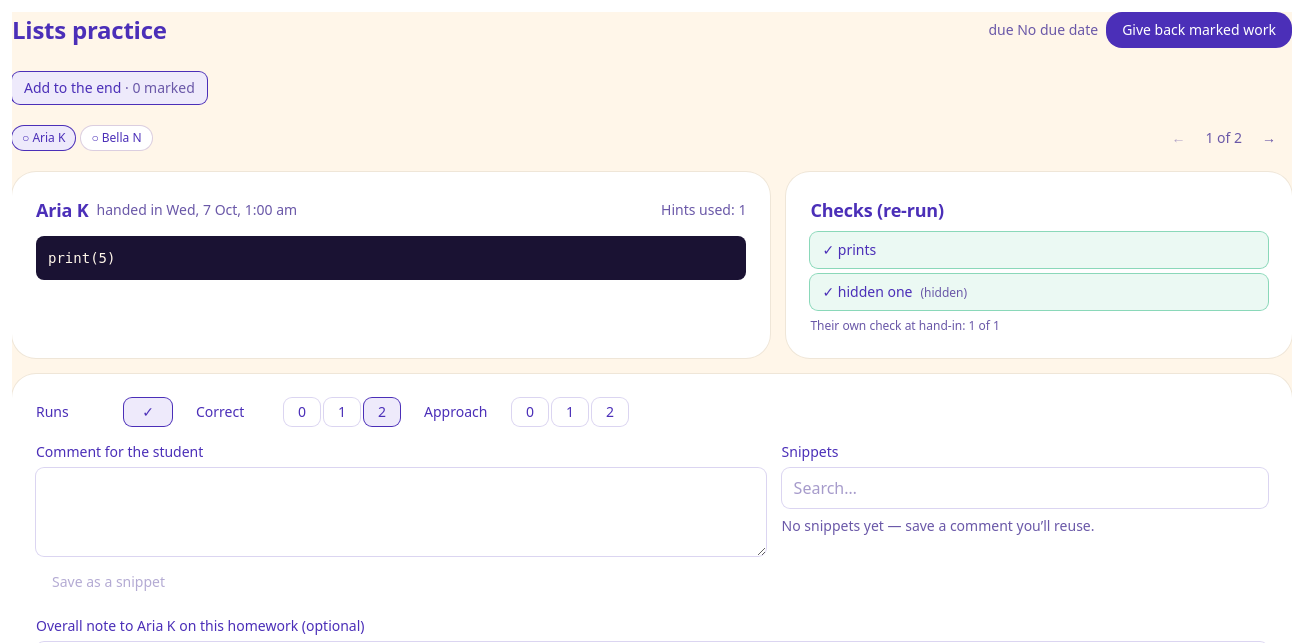
marking pre-fills Runs and Correct from the re-run and saves when moving on
expect the heading "Aria K" is shown: met, box [36,196,88,224]
expect the element named "Correct" is shown: met, box [284,398,400,426]
Click the radio button labelled "1" in the row of "Approach": point(570, 412) [552,398,588,426]
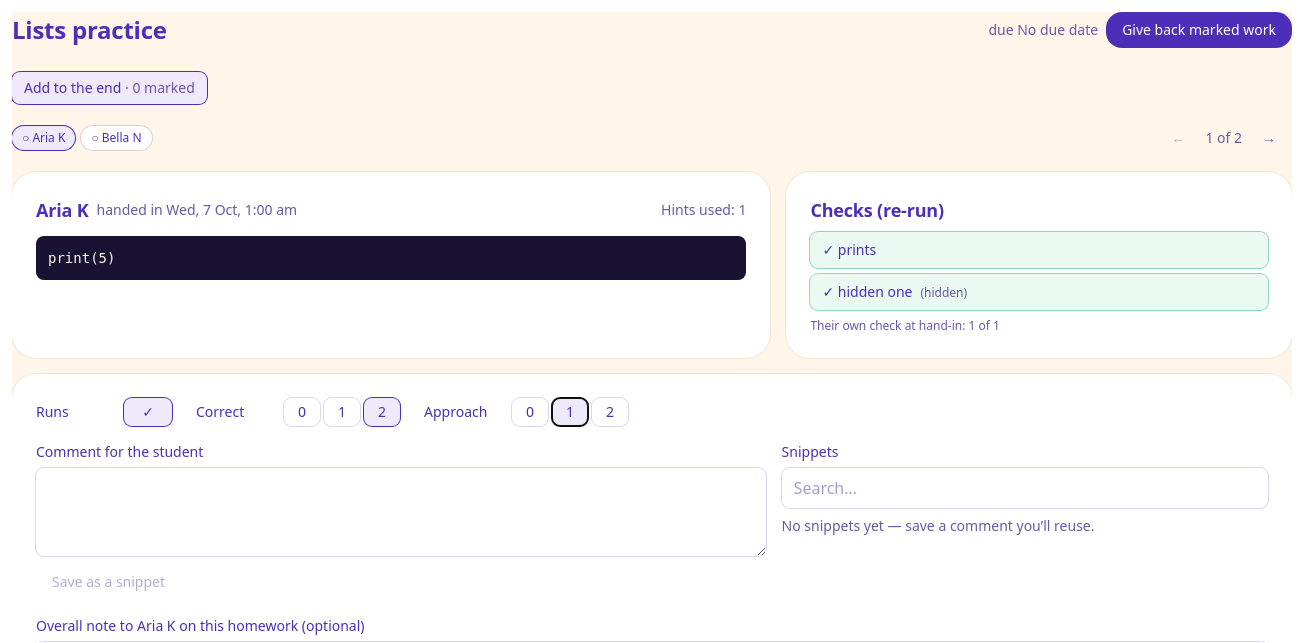
In the text box labelled "Comment for the student": point(401, 512) [36,468,766,556], type "Nice"
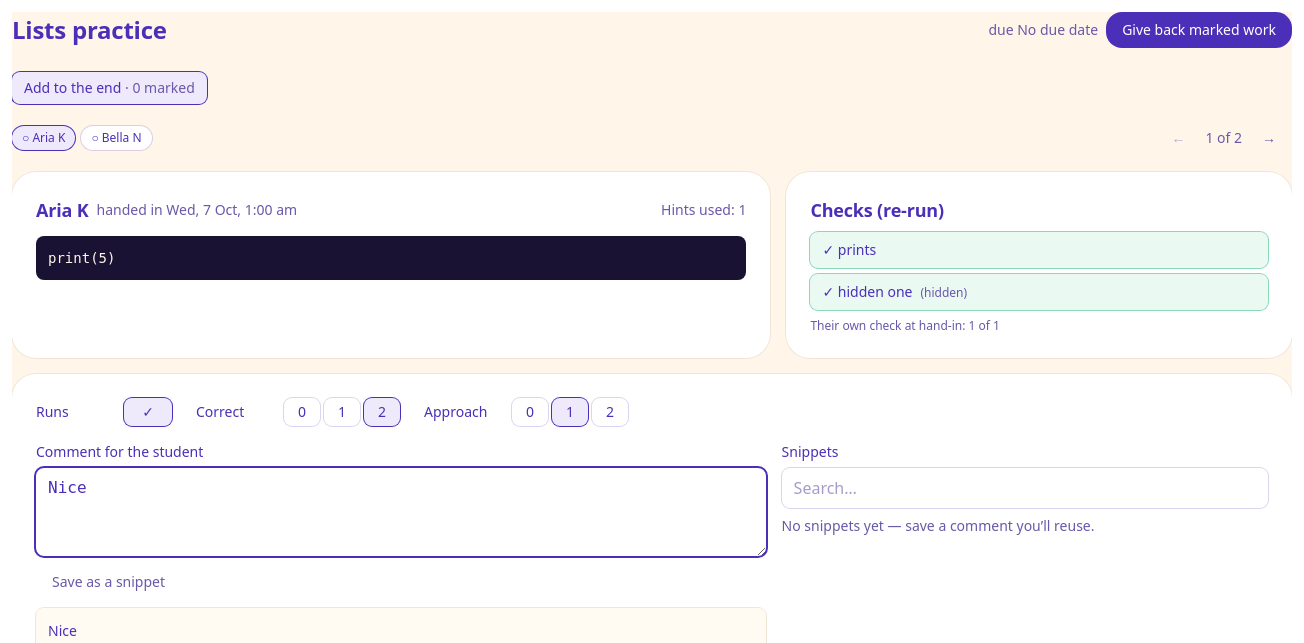
Press Escape
Click the button named "Next child": point(1269, 138) [1246,120,1292,156]
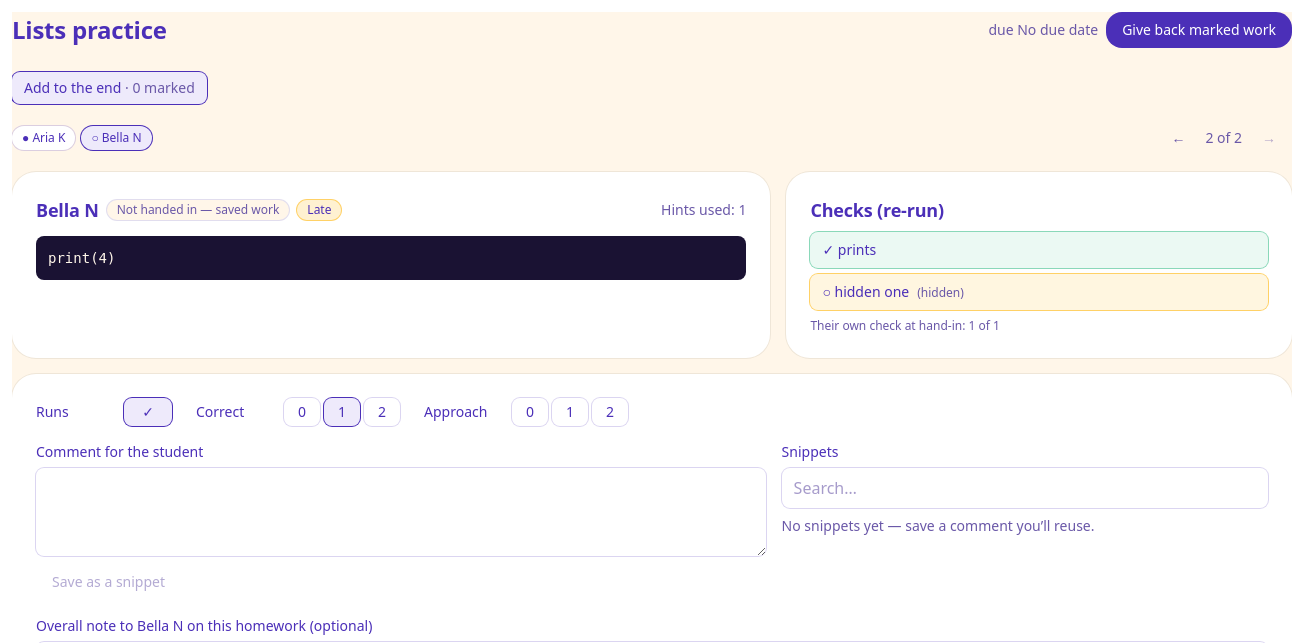
expect the heading "Bella N" is shown: met, box [36,196,99,224]
expect the text "Not handed in — saved work" is shown: met, box [107,200,289,220]
